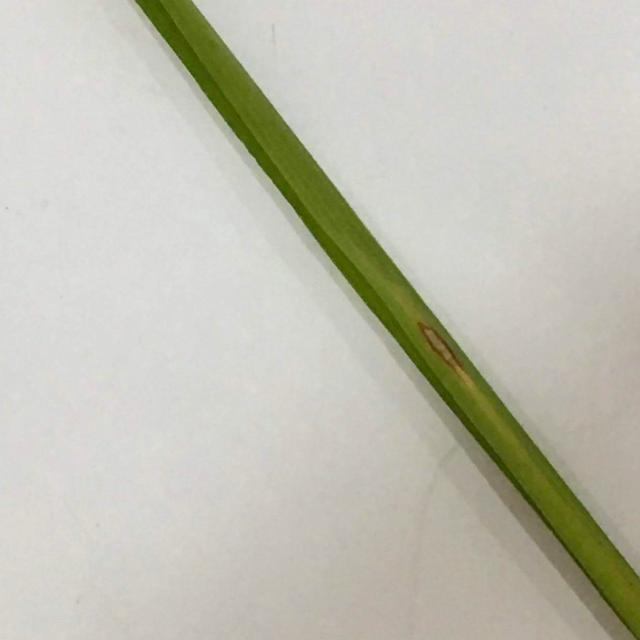Blast: (420, 324, 458, 366)
